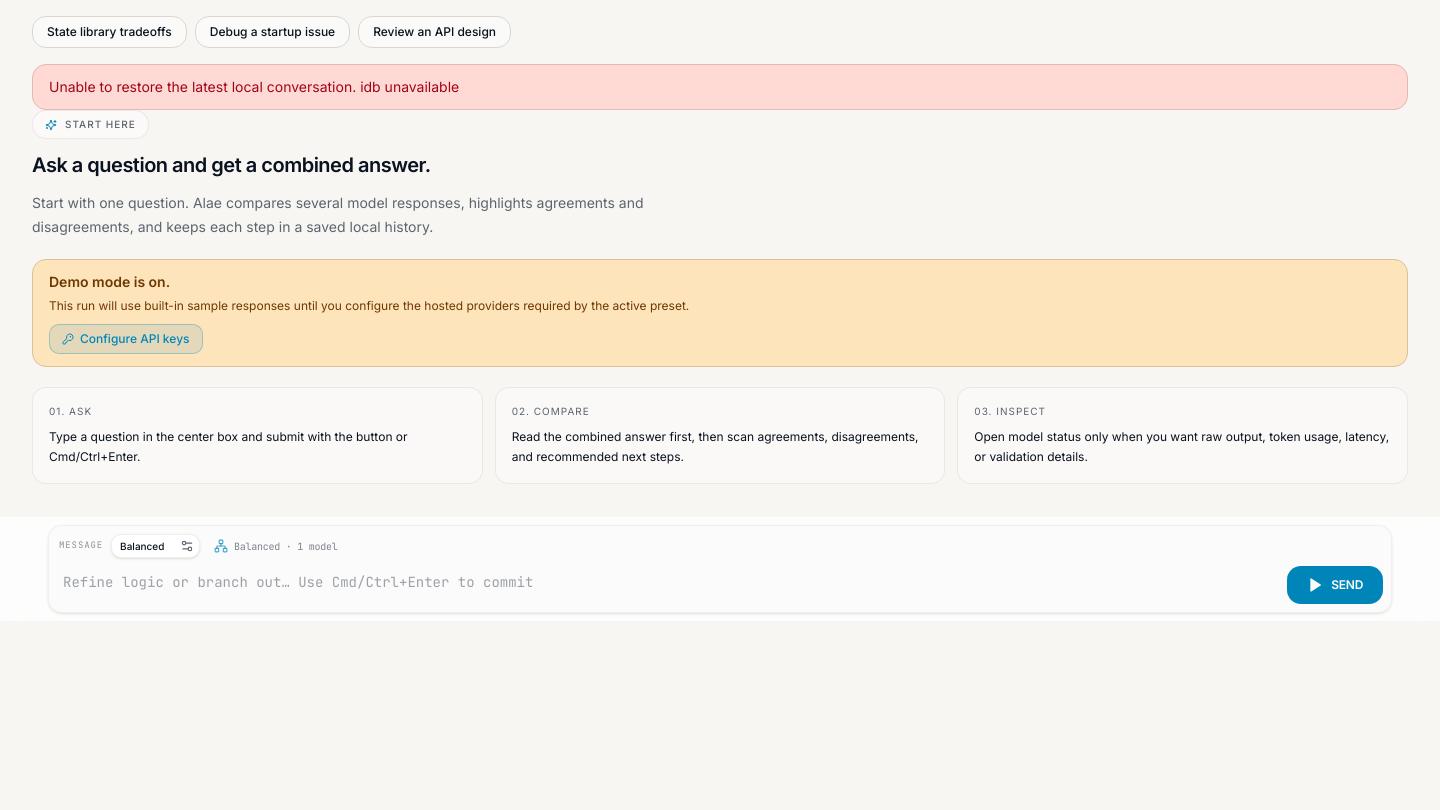
Test: ProgressiveWorkspace › surfaces bootstrap restore errors without blocking a new submission
Expected: the text "Unable to restore the latest local conversation. idb unavailable" is shown, [32,64,1408,110]
Step 1. Type "Build module 9 after restore failure." into the text box named "Question" → point(666, 585), box [57,566,1275,604]
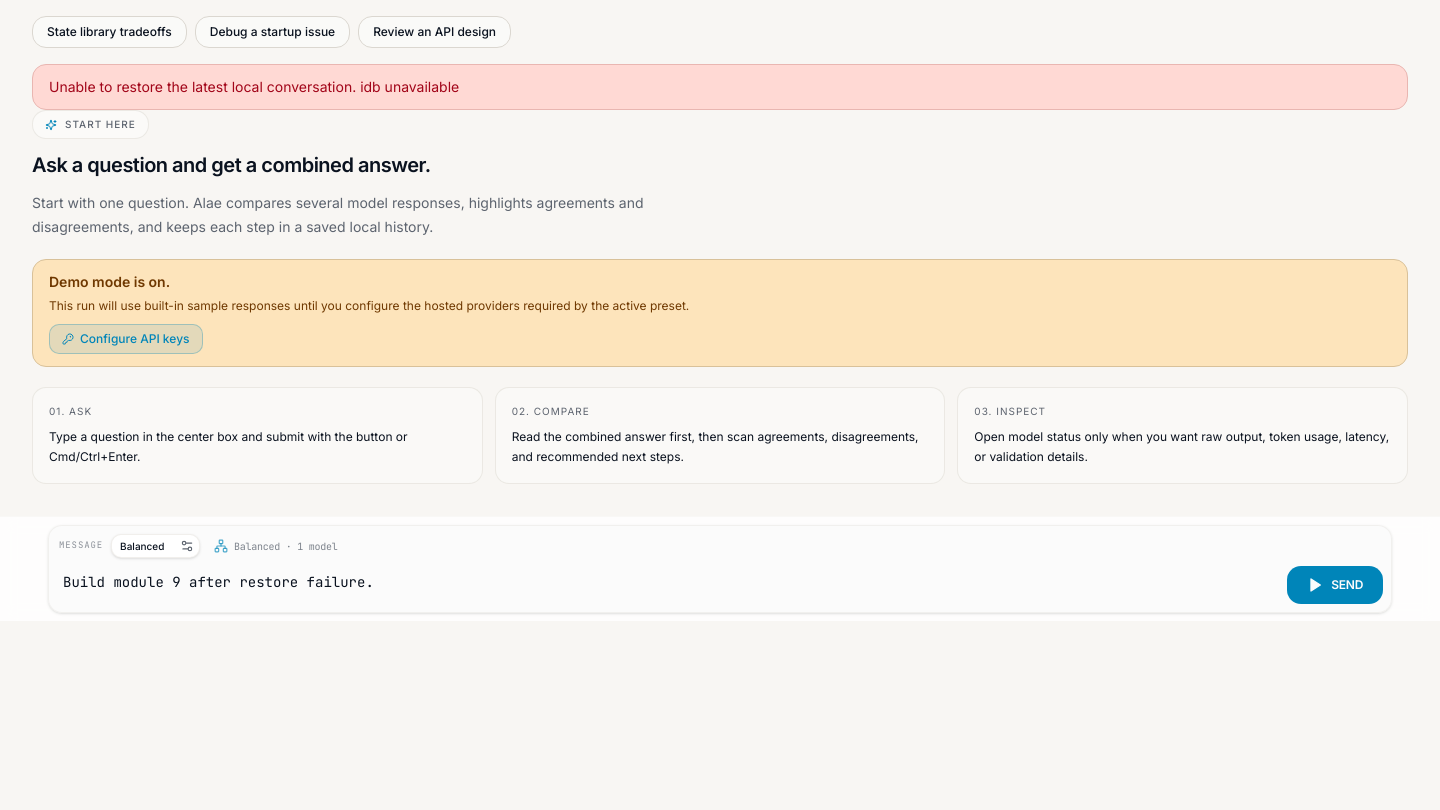
Step 2. Press Enter in the text box named "Question", box [57,566,1275,604]
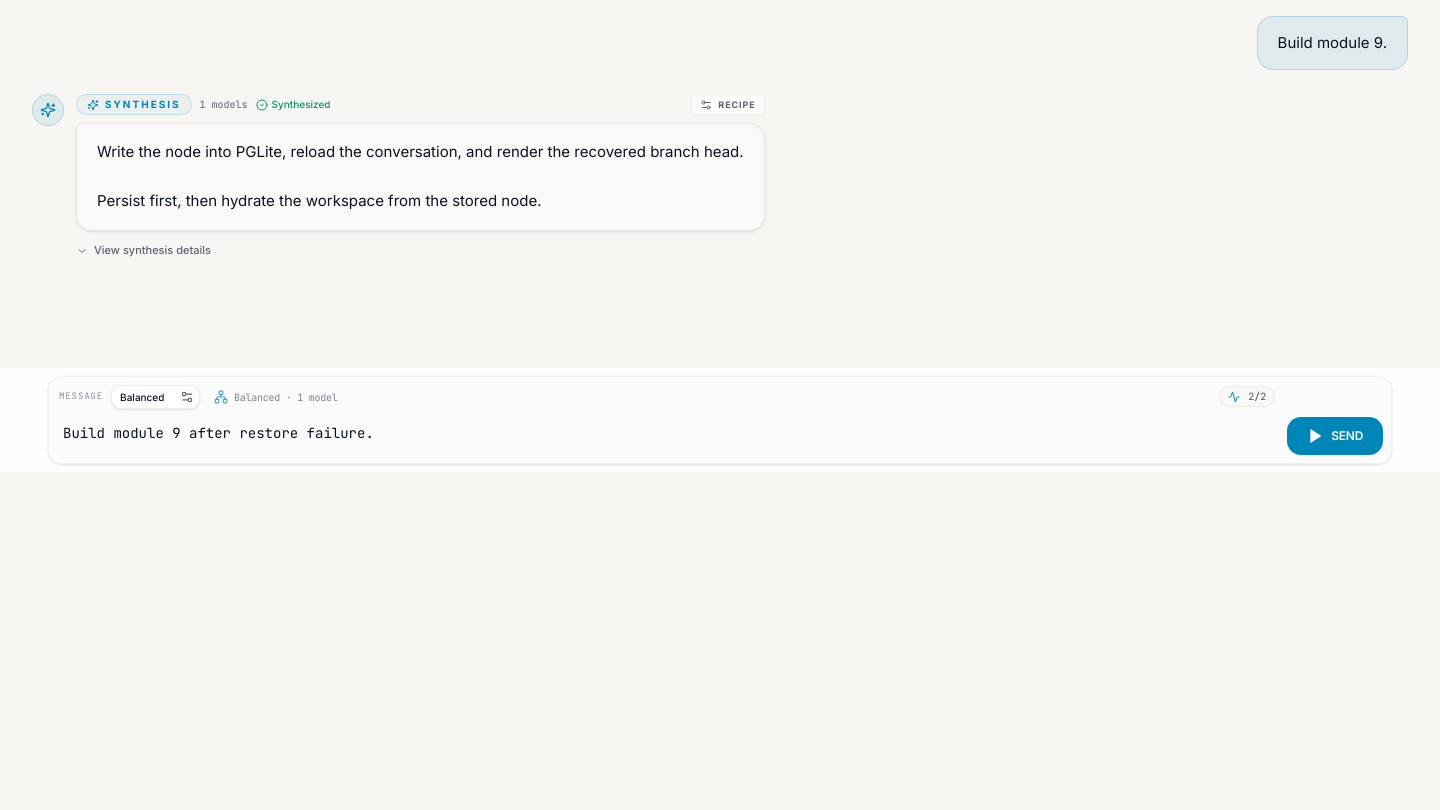
Result: the text "Write the node into PGLite, reload the conversation" is shown at [97,142,744,210]
